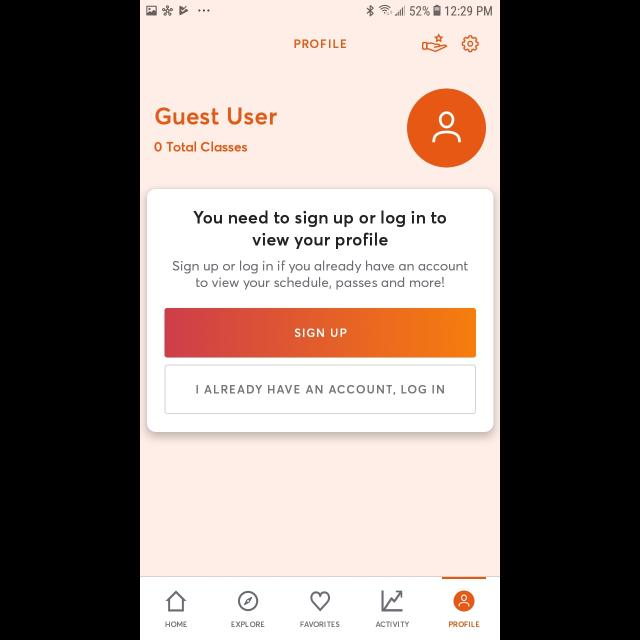icon: (408, 89, 487, 168), (166, 590, 187, 612), (454, 590, 474, 612), (382, 590, 402, 612), (238, 590, 258, 612), (310, 591, 330, 611), (461, 36, 479, 52)
image: (422, 34, 448, 52)
text: (194, 210, 446, 250), (174, 261, 468, 291), (155, 107, 277, 125), (156, 142, 248, 152), (294, 40, 346, 49), (300, 621, 340, 627), (232, 621, 264, 627), (376, 621, 408, 627), (448, 621, 479, 627), (165, 621, 187, 627)
textbutton: (164, 364, 476, 414), (166, 308, 477, 358)
uppertaskbar: (140, 1, 500, 17)
